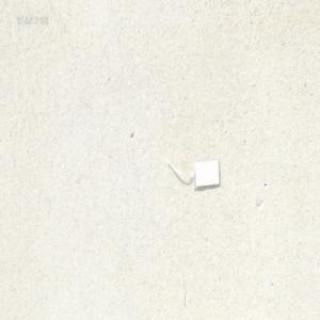LuggageTagtrack_idkeyframe: (165, 157, 220, 188)
